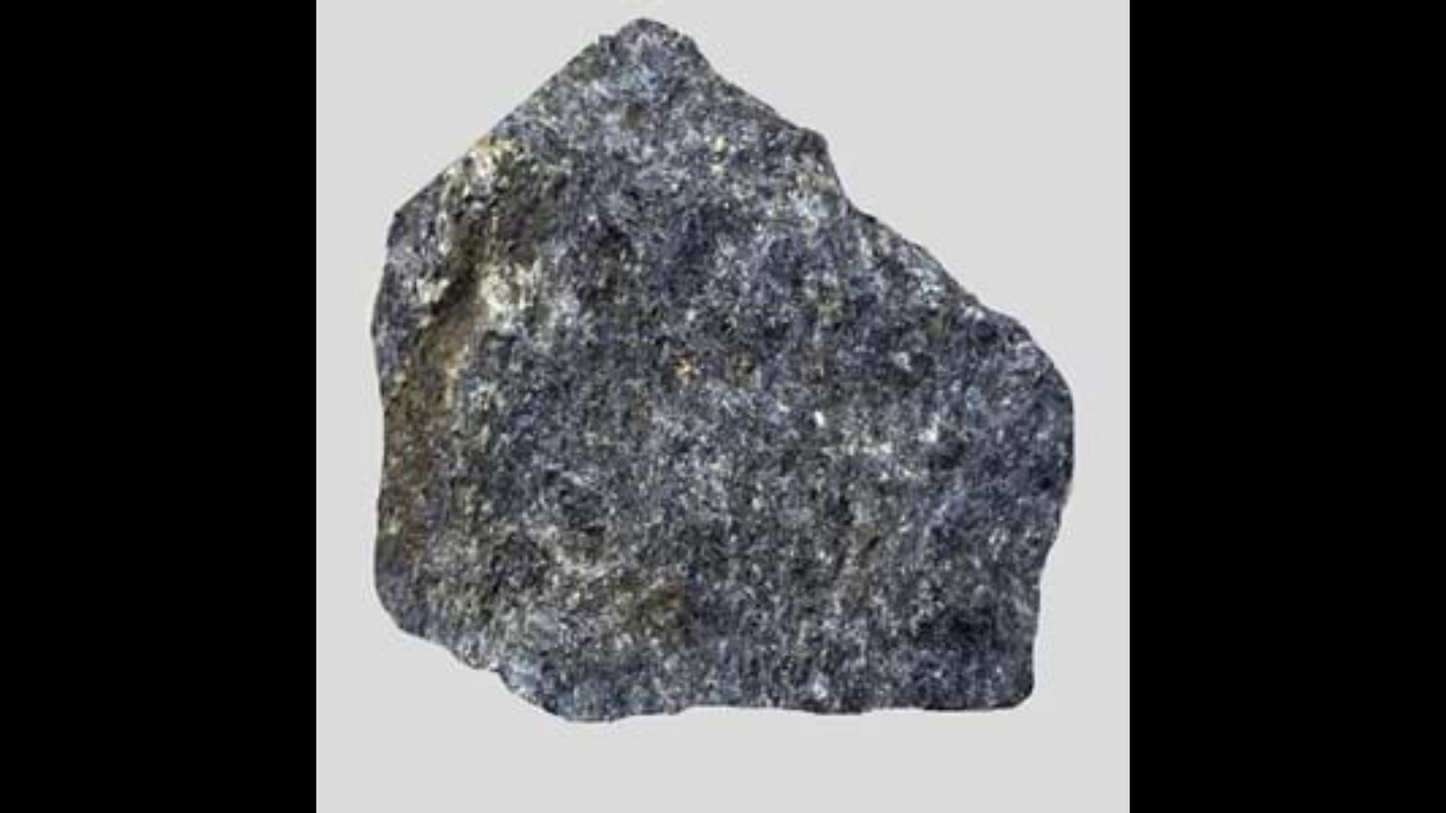rock: (373, 19, 1070, 715)
